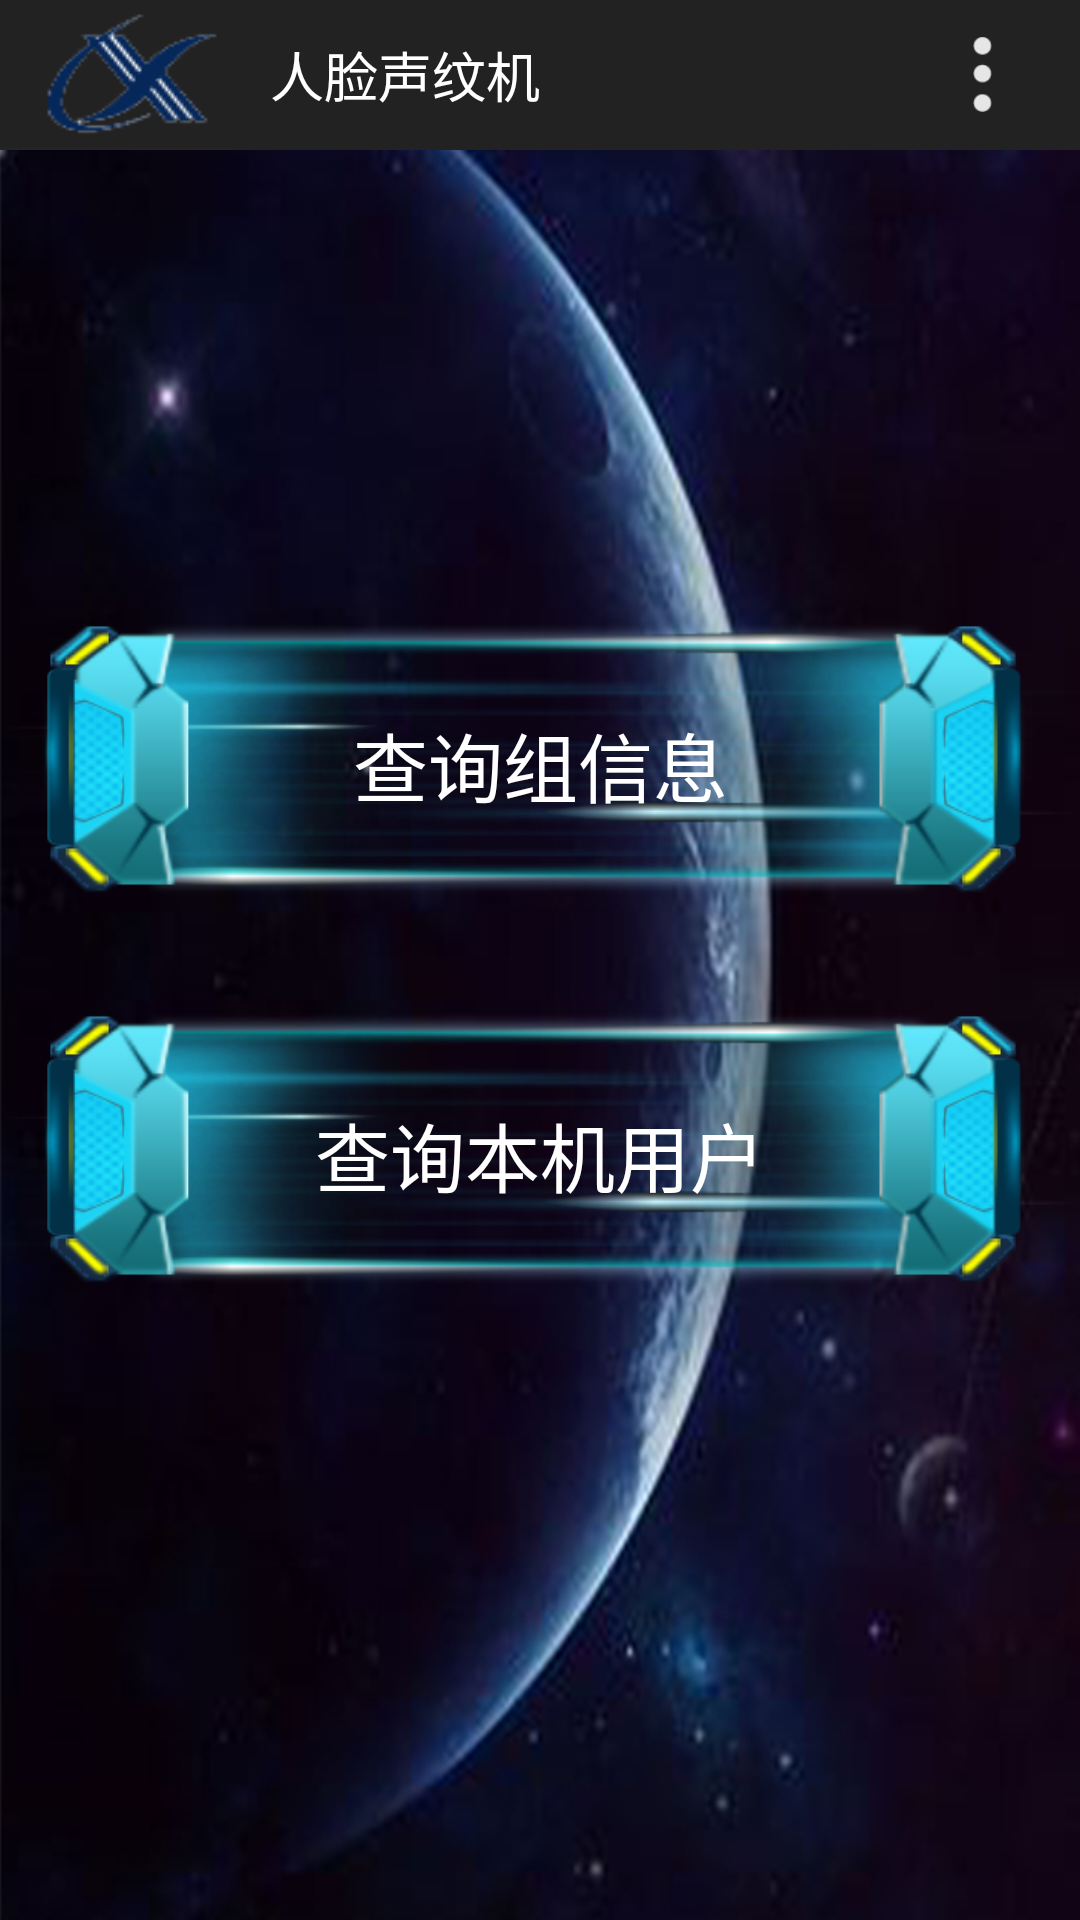

Named icons in this screenshot (1080px×1920px) and their centers, [x,y]:
more: [982,74]
